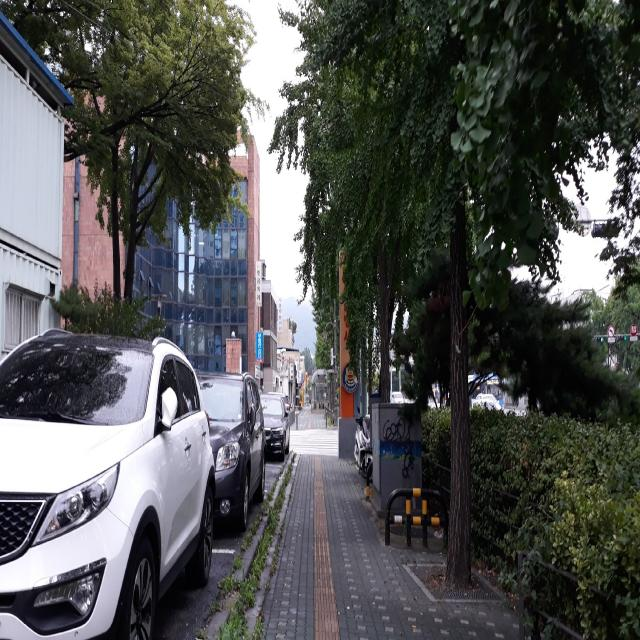횡단보도: (289, 428, 338, 455)
